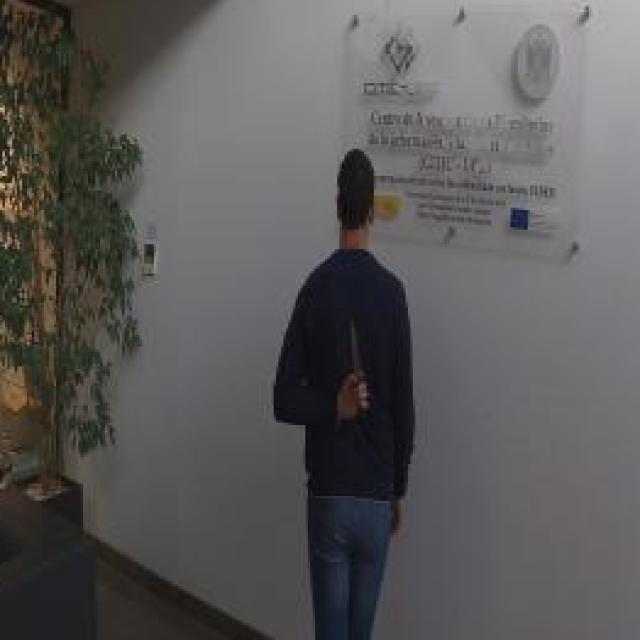knife: (347, 312, 371, 418)
